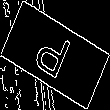P_SW: (32, 24, 78, 86)
